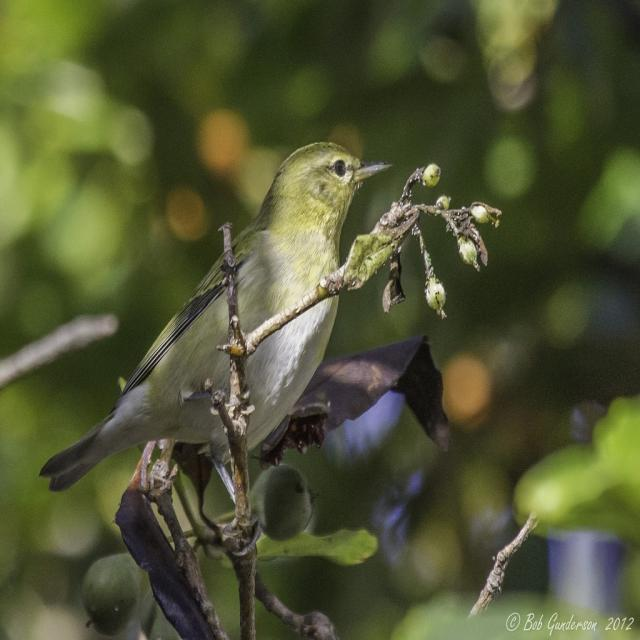bird: (42, 128, 395, 526)
